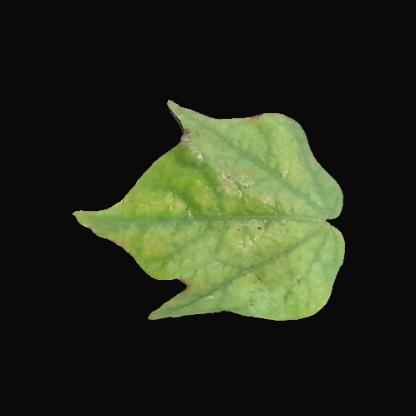curl_stage1: (140, 173, 274, 257), (238, 250, 319, 306), (277, 181, 335, 251), (261, 131, 319, 193), (200, 119, 262, 176), (190, 257, 242, 311), (95, 207, 145, 233)
